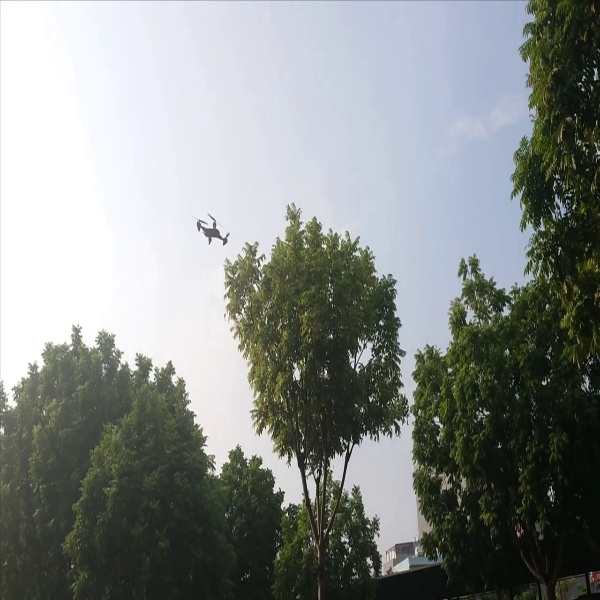drone: (187, 209, 233, 255)
